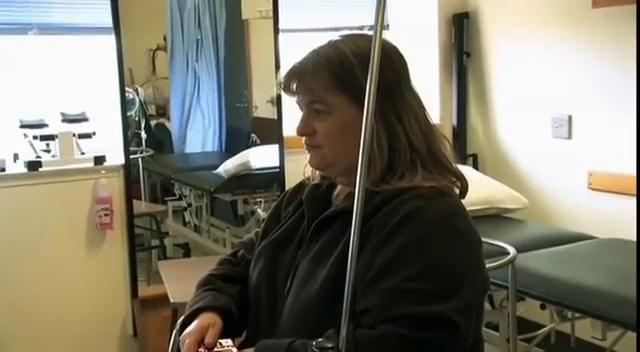others: (173, 32, 491, 351)
